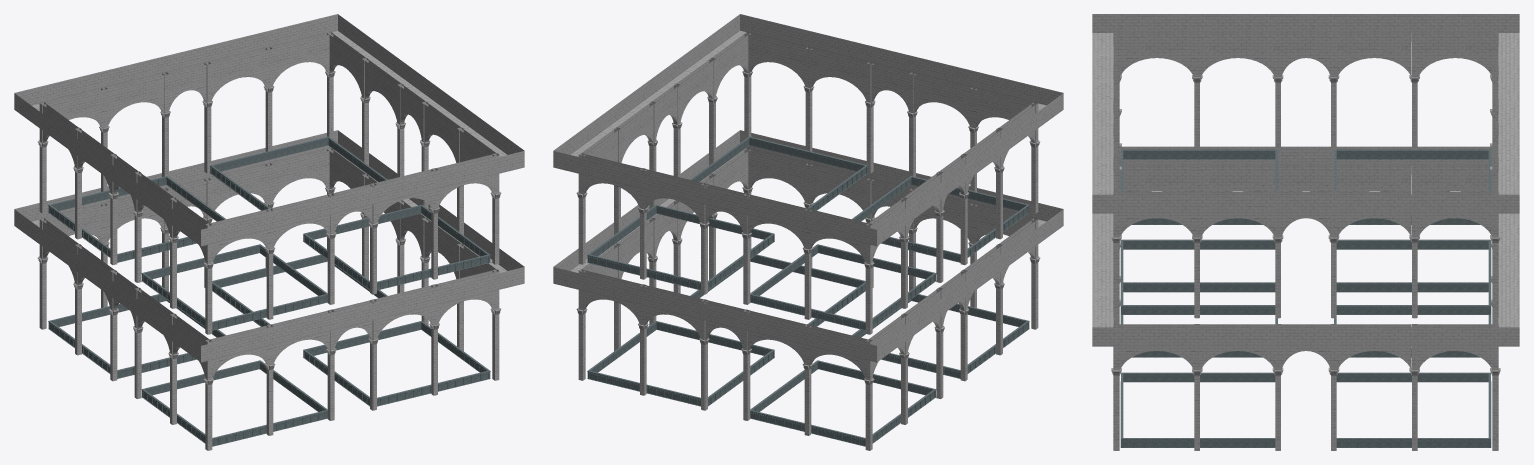
File: FinalMap_Center_Outer.FBX
The picture shows the model from 3 angles, left to right: view 1: azimuth 30°, elevation 25°; view 2: azimuth 150°, elevation 25°; view 3: azimuth 270°, elevation 25°; orthographic projection. The views are drawn at different scales.
Parts seen in each view (by area): view 1: FinalMap_Center_Outer; view 2: FinalMap_Center_Outer; view 3: FinalMap_Center_Outer.
Part boxes in pixels (left/top/right/bottom): FinalMap_Center_Outer: left=14, top=14, right=524, bottom=450; FinalMap_Center_Outer: left=553, top=14, right=1063, bottom=450; FinalMap_Center_Outer: left=1092, top=14, right=1519, bottom=450.
Bounding box in the file's own units: 1375 × 942 × 1375.
2 materials, 2 textured.
